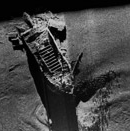ship: (17, 23, 75, 96)
